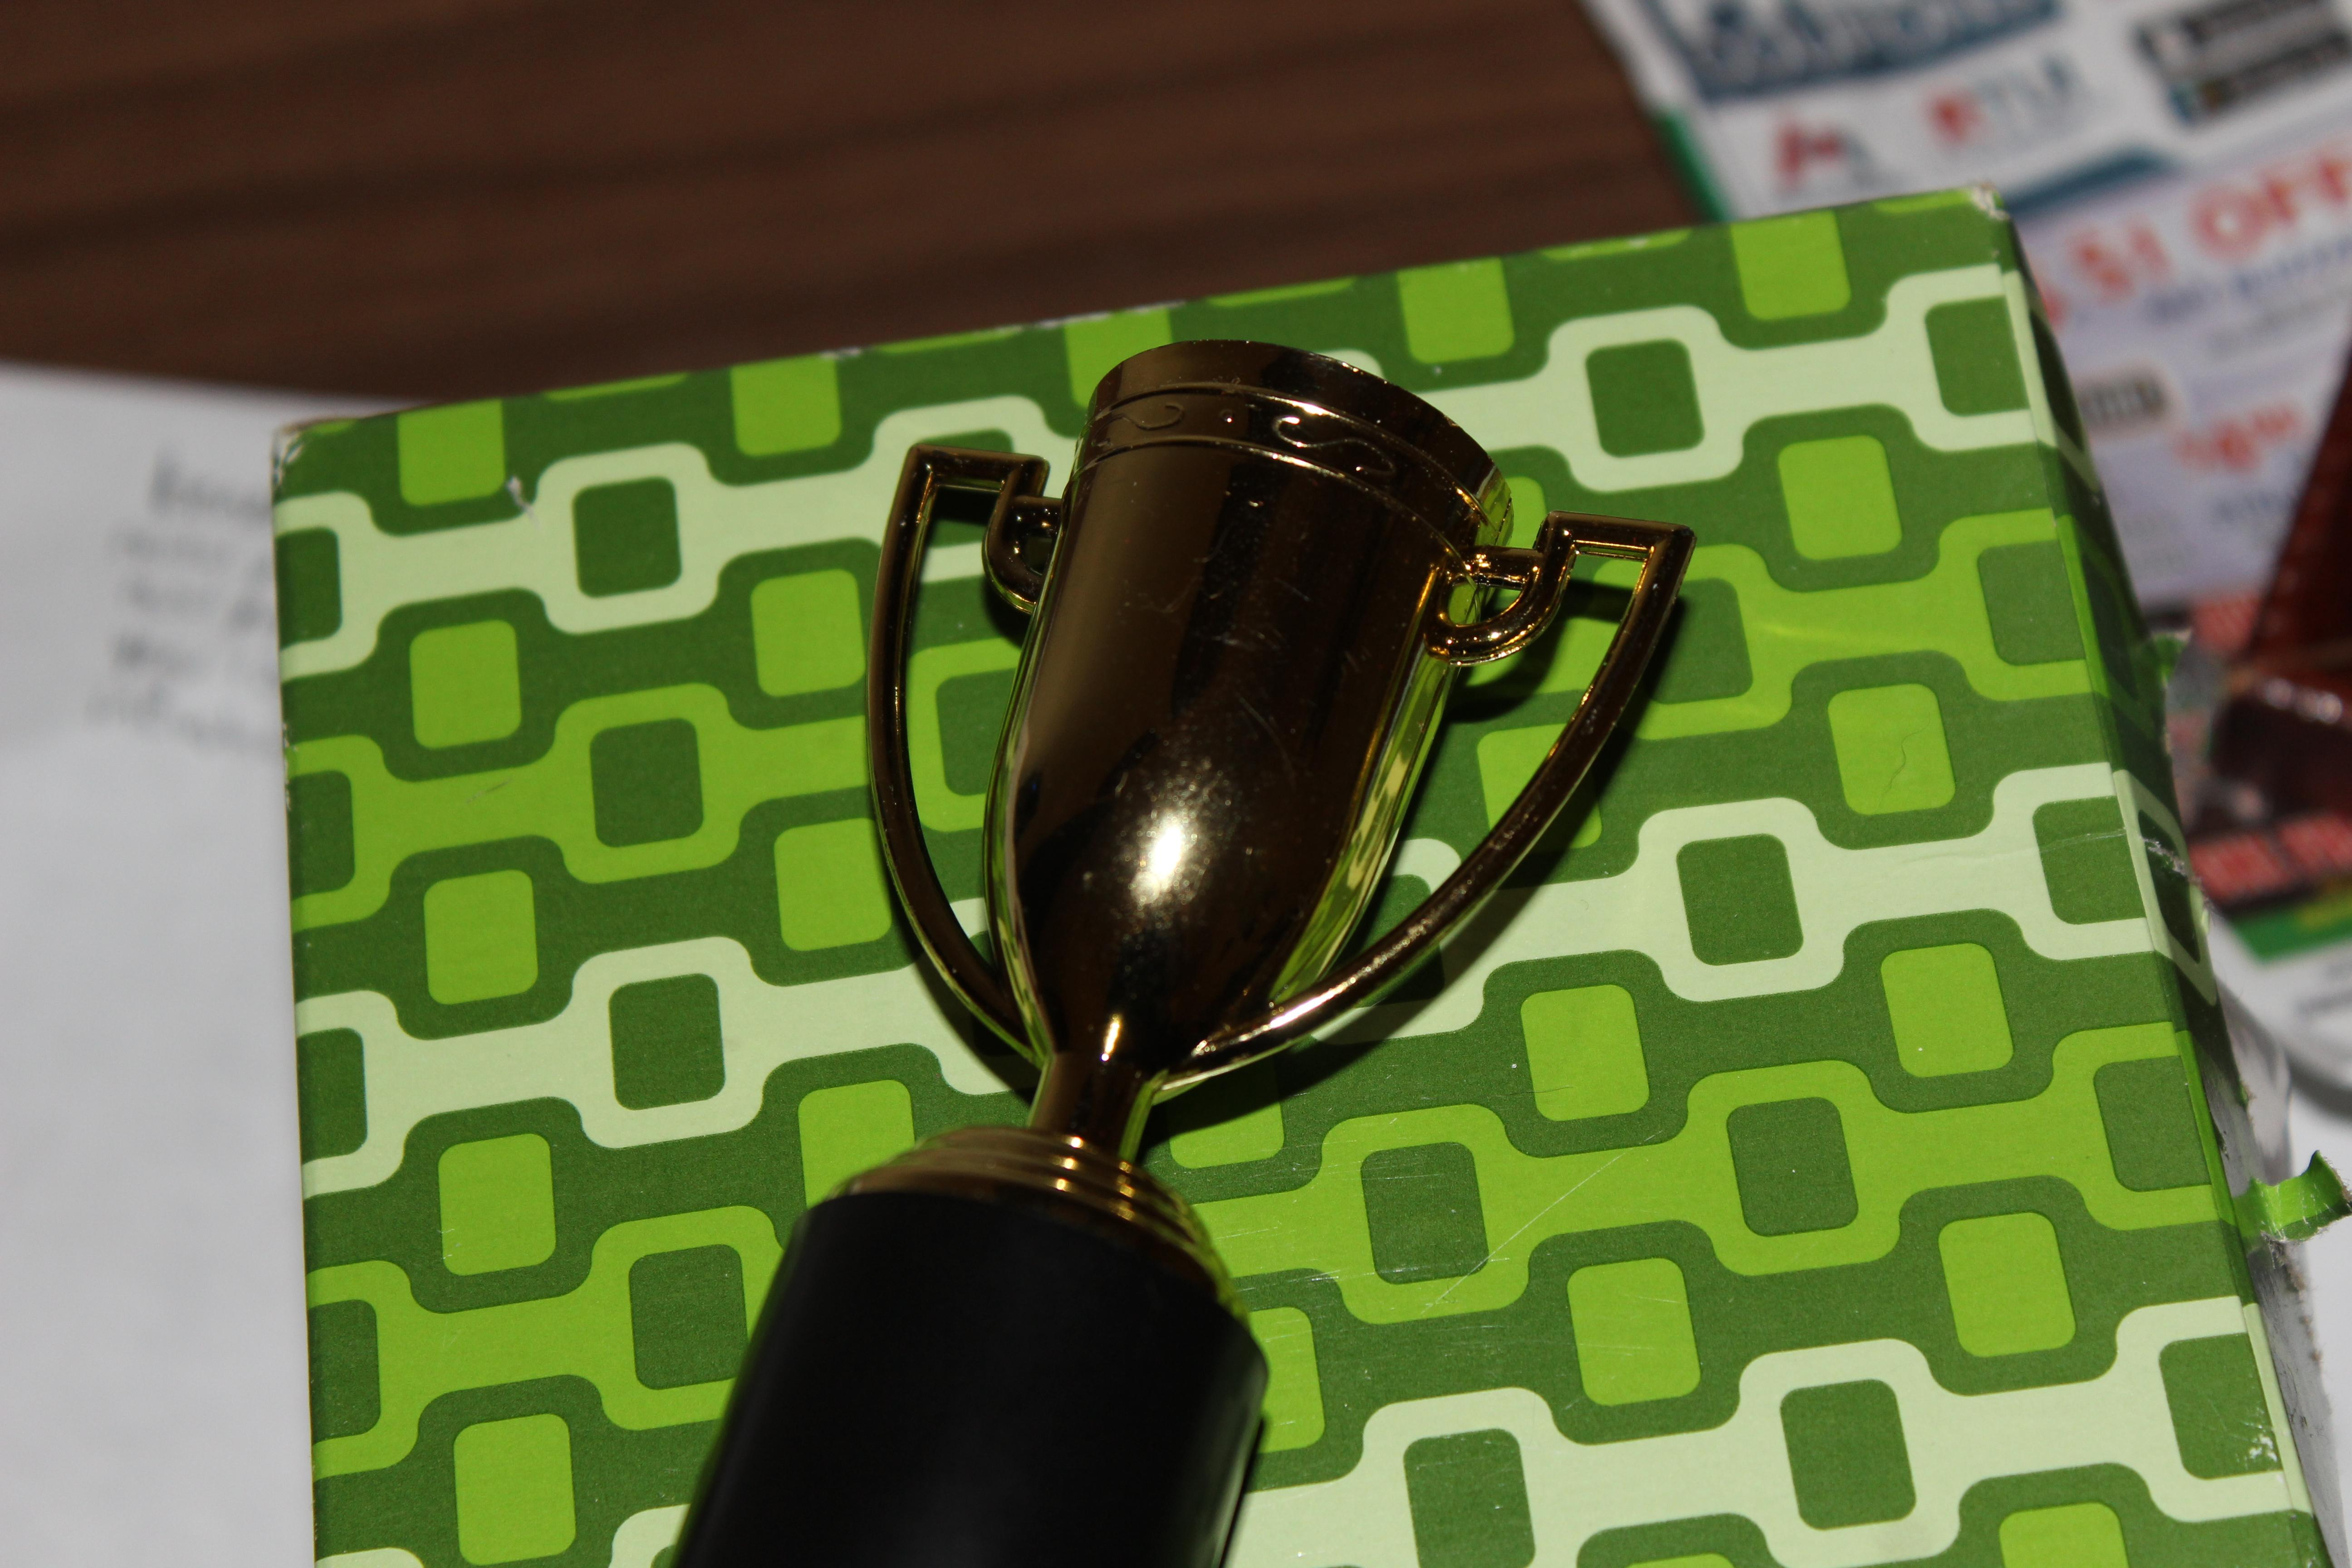trophy: (626, 289, 1750, 1568)
